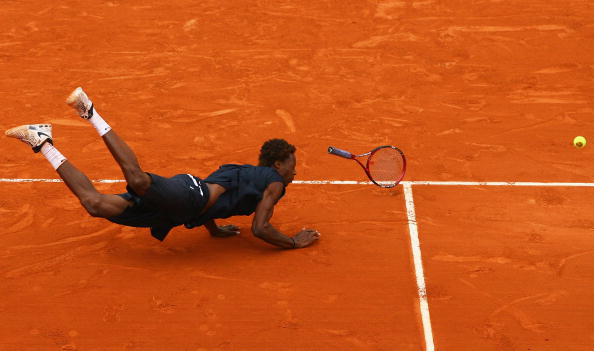fall: (10, 85, 330, 259)
